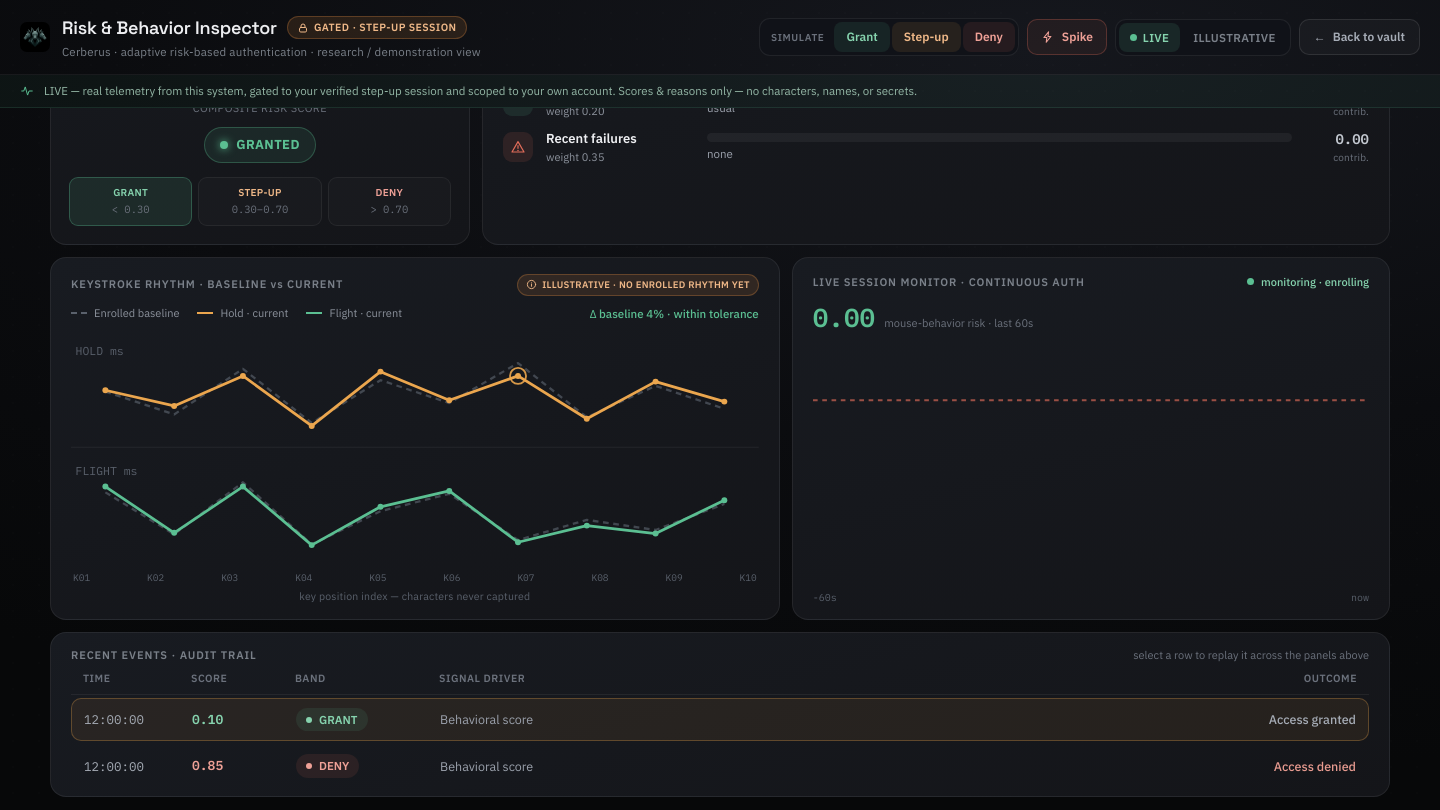
it: RiskDashboard — LIVE mode from gated /risk/events › renders real event rows, shows the LIVE banner + gated badge, and replays a clicked row onto the gauge
(page scrolled)
Expected: the text "Access granted" is shown, [1269, 711, 1356, 727]
Expected: the button "LIVE" is shown, [1119, 22, 1180, 52]
Click the button "Access denied". click: (114, 766)
box: [71, 744, 1369, 788]
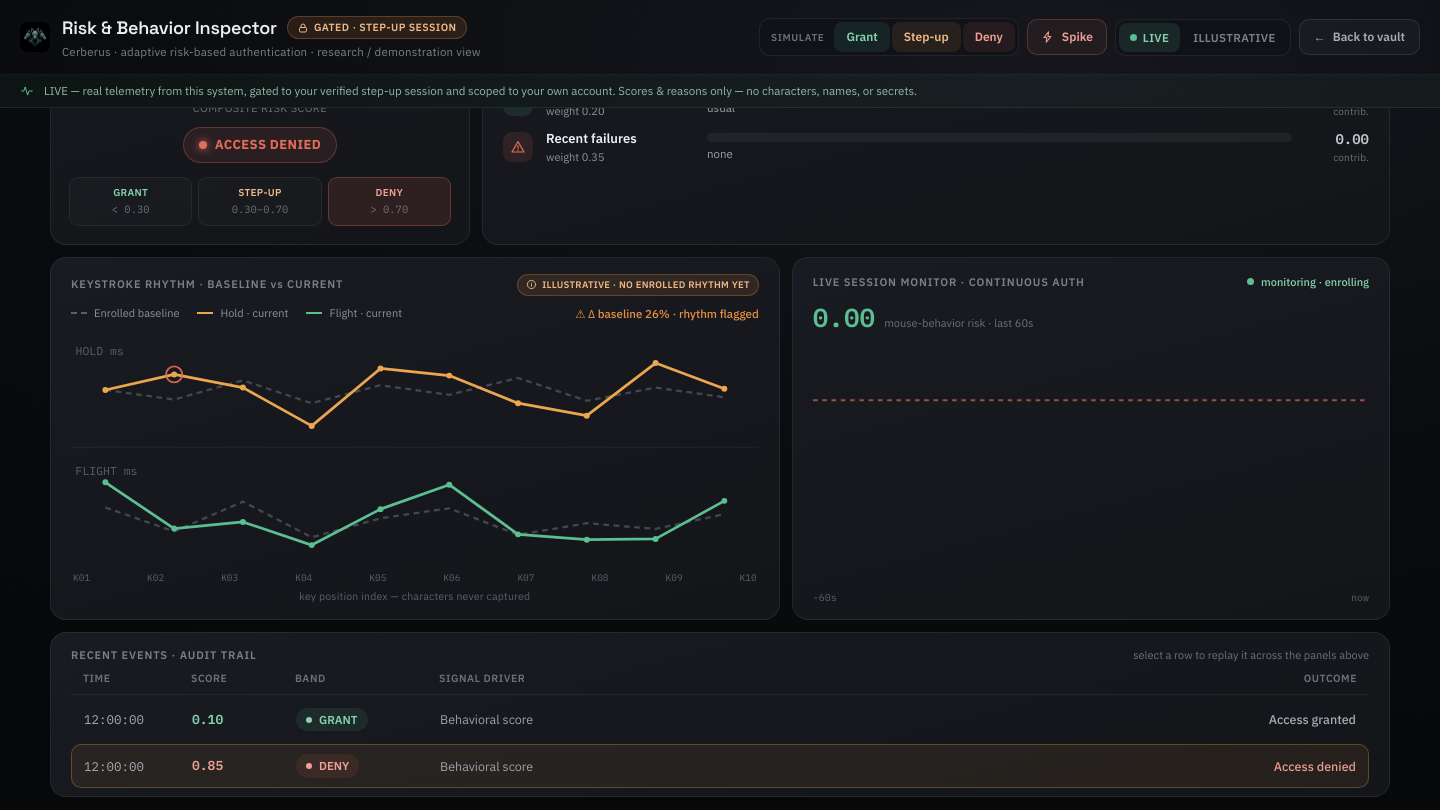
Result: the text "ACCESS DENIED" is shown at [215, 135, 321, 155]
